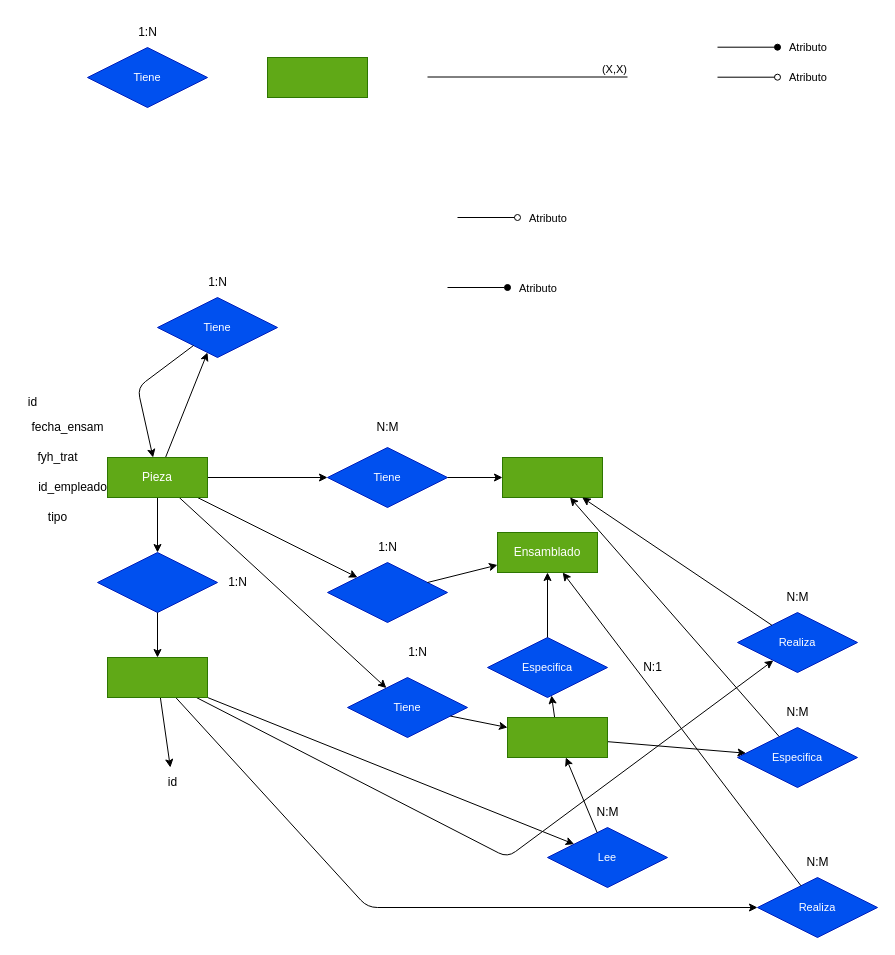
Some shapes in this 895 by 955 pixel diagram are drawn without their labels. The shapes that lost their labels are listed below. From the top down, each one's box as (x1, y1, x2, y2) in pixels, then its label:
(266, 56, 368, 98): Entity
(502, 456, 602, 498): Tratamiento
(96, 552, 218, 612): Ensamblado Por
(326, 562, 448, 622): Recibe
(106, 656, 208, 698): Emplado
(506, 716, 608, 758): Plano
